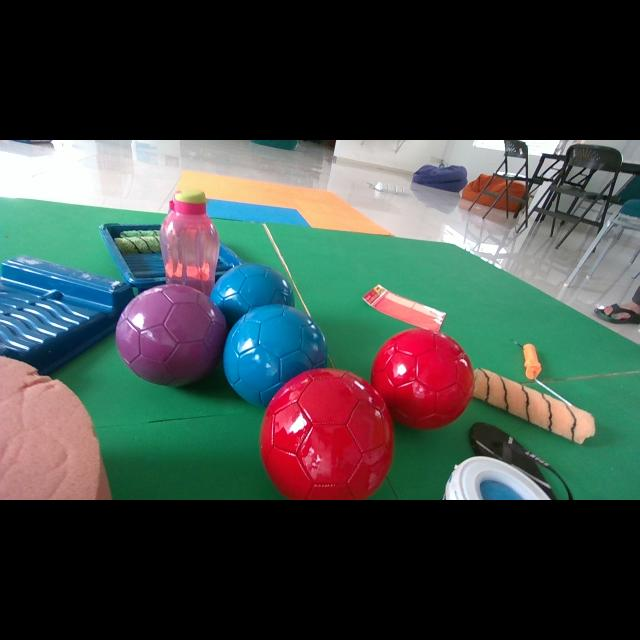B: (222, 305, 328, 406), (211, 262, 294, 324)
P: (115, 285, 228, 386)
R: (260, 369, 394, 499), (371, 329, 475, 429)
